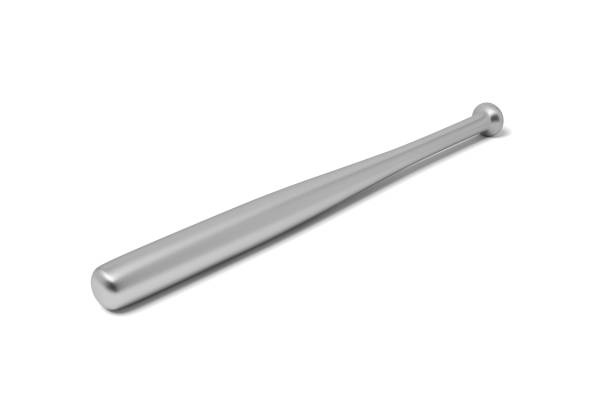bita: (95, 107, 504, 305)
